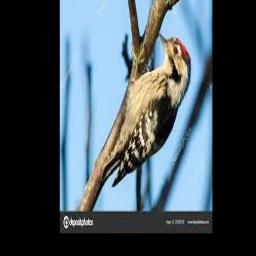Woodpecker: (101, 33, 191, 187)
